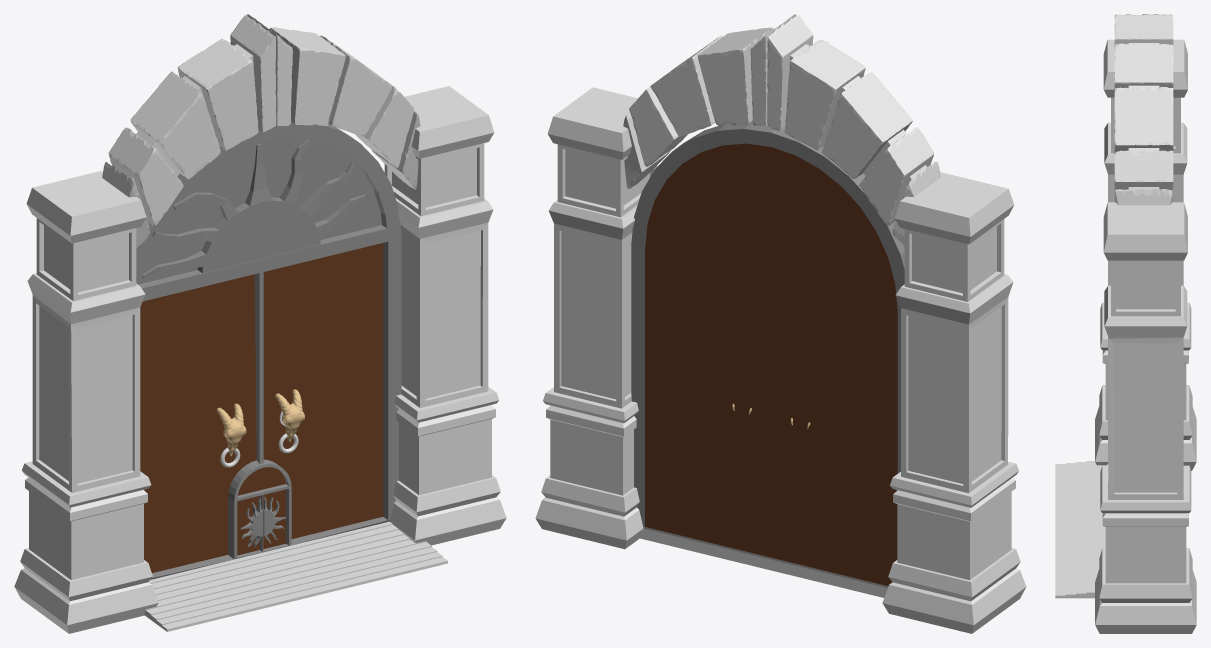
The model's file is Gate.fbx.
The picture shows the model from 3 angles, left to right: view 1: azimuth 30°, elevation 25°; view 2: azimuth 150°, elevation 25°; view 3: azimuth 270°, elevation 25°; orthographic projection. The views are drawn at different scales.
Visible parts, largest first — view 1: Circle, Cube.001, Cube, Cube.009, Cube.010, Cube.004, Cube.008, Cube.003, Cube.007, Cube.002, Sphere.001, Cube.005 (+2 smaller); view 2: Circle, Cube.001, Cube.009, Cube.010, Cube.004, Cube.008, Cube.003, Cube, Cube.007, Cube.002, Cube.005, Cube.006 (+1 smaller); view 3: Cube.001, Cube, Cube.003, Cube.004, Cube.002, Cube.005, Cube.006, Cube.012.
Part boxes in pixels (x1,y1,x2,y2): Circle: [136, 122, 401, 579]; Cube.001: [14, 86, 506, 633]; Cube: [144, 521, 447, 631]; Cube.009: [130, 71, 220, 179]; Cube.010: [177, 38, 258, 150]; Cube.004: [269, 27, 345, 125]; Cube.008: [108, 127, 183, 227]; Cube.003: [320, 35, 392, 136]; Cube.007: [230, 15, 276, 132]; Cube.002: [355, 86, 414, 167]; Sphere.001: [216, 389, 304, 456]; Cube.005: [247, 14, 292, 125]; Circle: [631, 121, 904, 587]; Cube.001: [535, 87, 1026, 633]; Cube.009: [821, 72, 913, 178]; Cube.010: [784, 40, 865, 150]; Cube.004: [698, 27, 773, 125]; Cube.008: [859, 127, 933, 226]; Cube.003: [650, 35, 722, 136]; Cube: [640, 528, 887, 597]; Cube.007: [767, 14, 813, 131]; Cube.002: [629, 86, 687, 166]; Cube.005: [750, 14, 796, 125]; Cube.006: [623, 111, 670, 189]; Cube.001: [1095, 39, 1196, 633]; Cube: [1055, 461, 1107, 598]; Cube.003: [1114, 87, 1173, 153]; Cube.004: [1114, 43, 1173, 89]; Cube.002: [1114, 150, 1173, 198]; Cube.005: [1114, 14, 1173, 45]; Cube.006: [1114, 188, 1173, 205]; Cube.012: [1128, 43, 1159, 189].
Size of the model in its own units: 5280 by 18196 by 21379.
